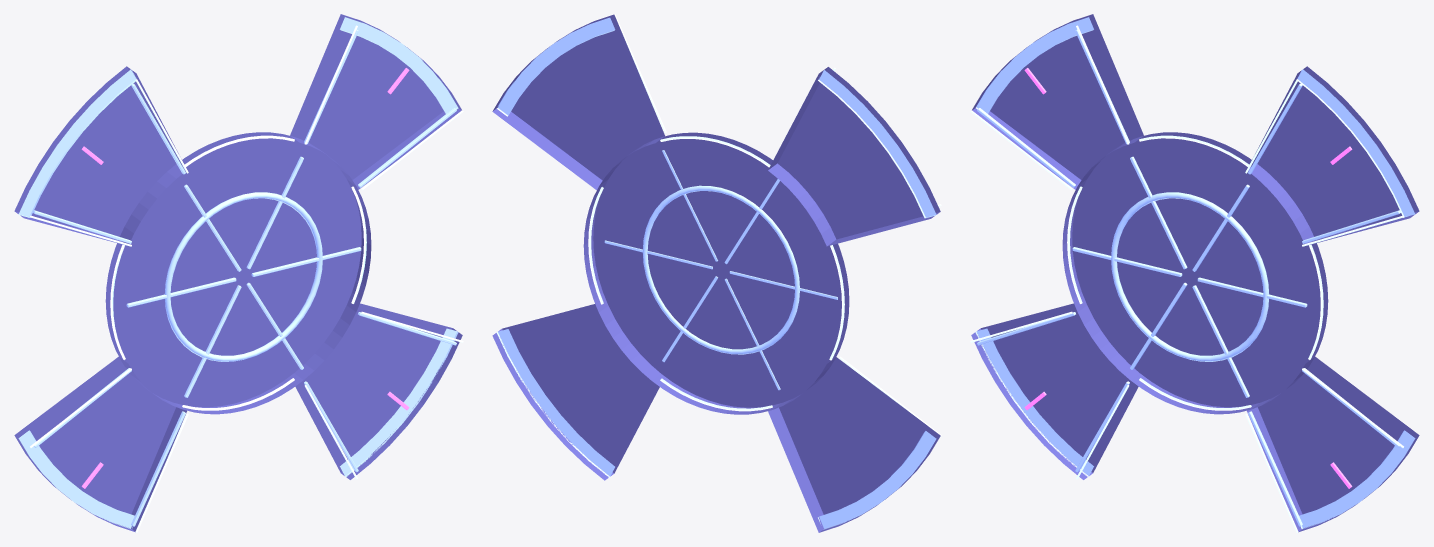
File: prism-panel-fun6-high.glb
3 views of the same model, side by side, from view 1: azimuth 30°, elevation 25°; view 2: azimuth 150°, elevation 25°; view 3: azimuth 330°, elevation 25° (orthographic).
Visible parts, largest first — view 1: RENDER_PANEL_SHELL, RENDER_PANEL_FRAME, RENDER_PANEL_SIGNAL, RENDER_PANEL_HAZARD; view 2: RENDER_PANEL_SHELL, RENDER_PANEL_FRAME, RENDER_PANEL_SIGNAL; view 3: RENDER_PANEL_SHELL, RENDER_PANEL_FRAME, RENDER_PANEL_SIGNAL, RENDER_PANEL_HAZARD.
Part boxes in pixels (x1,y1,x2,y2): RENDER_PANEL_SHELL: (14, 14, 462, 532); RENDER_PANEL_FRAME: (18, 17, 458, 528); RENDER_PANEL_SIGNAL: (30, 25, 463, 532); RENDER_PANEL_HAZARD: (81, 68, 409, 488); RENDER_PANEL_SHELL: (492, 14, 940, 532); RENDER_PANEL_FRAME: (496, 17, 936, 529); RENDER_PANEL_SIGNAL: (588, 14, 941, 436); RENDER_PANEL_SHELL: (971, 14, 1419, 532); RENDER_PANEL_FRAME: (975, 17, 1415, 529); RENDER_PANEL_SIGNAL: (970, 25, 1403, 532); RENDER_PANEL_HAZARD: (1024, 68, 1352, 488).
Size of what is drawn, in the model's own units: 36.85 by 36.85 by 1.95.
